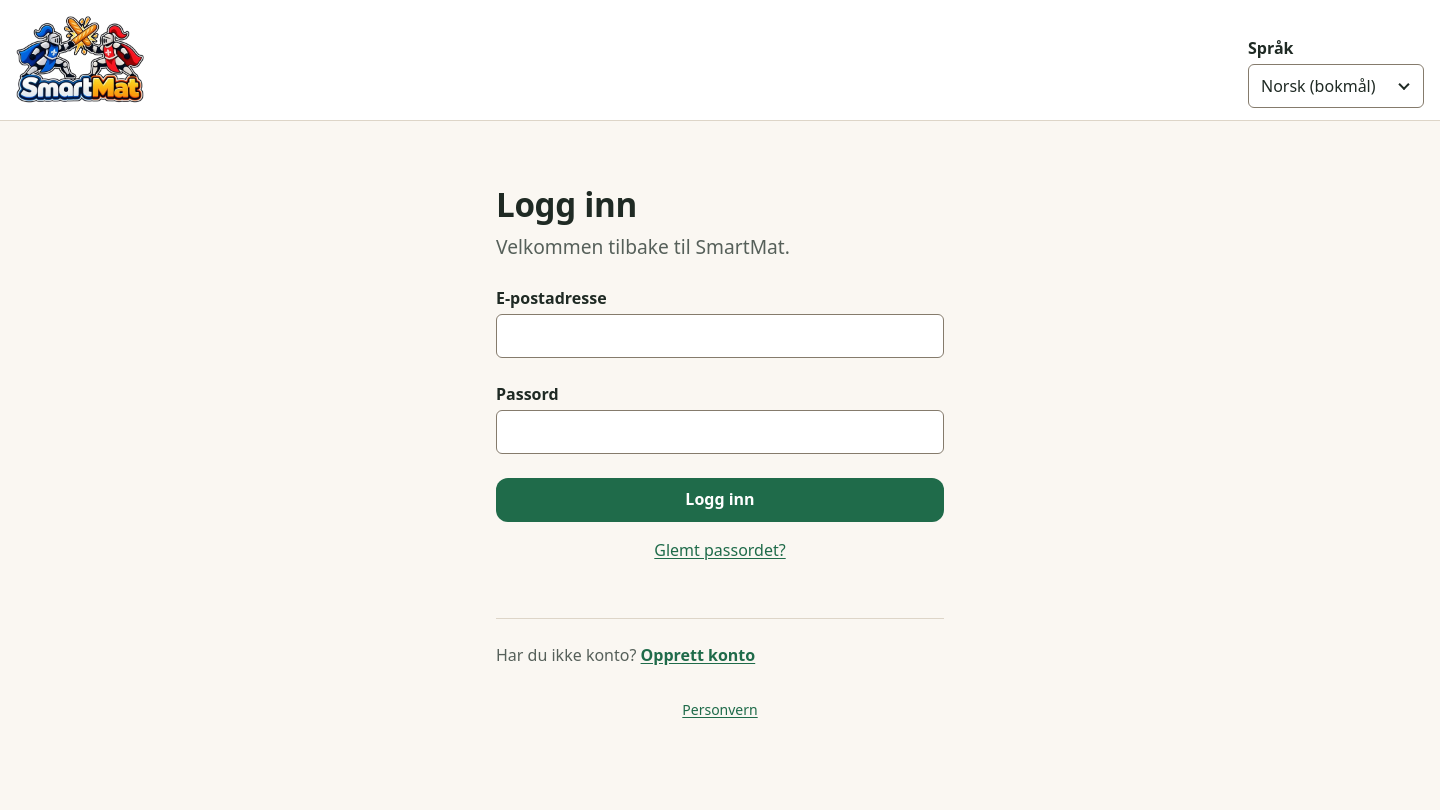
it: FR-AUTH-006a "Glemt passord" › the login page links to it
Click the link "Glemt passordet?" at (720, 550), box [654,539,786,561]
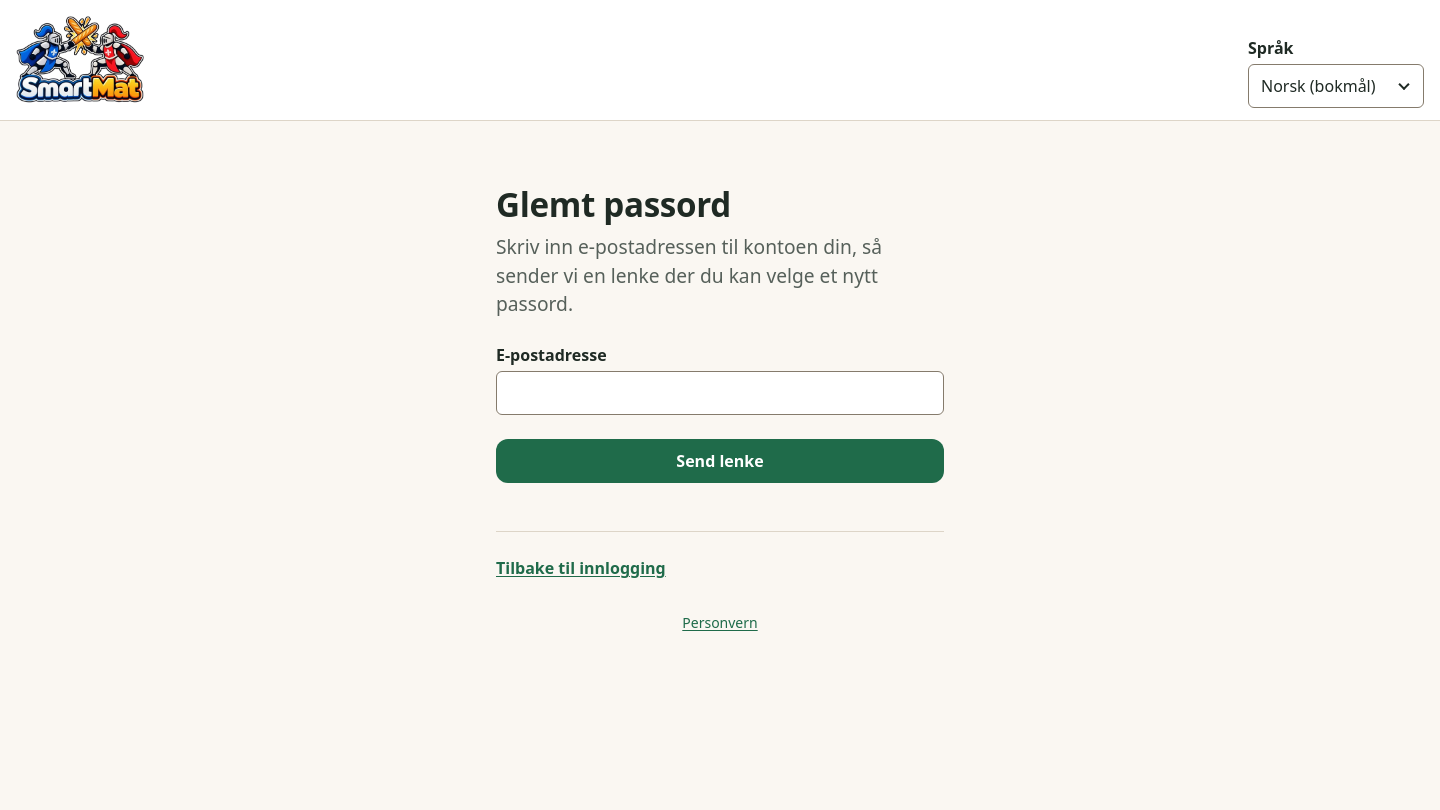
Check: the heading "Glemt passord" is shown, box [496,185,731,225]
